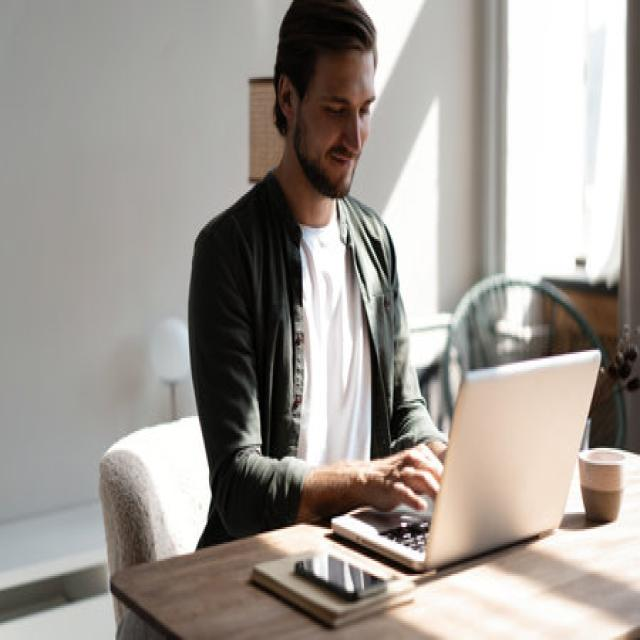notebook-person: (177, 0, 608, 590)
